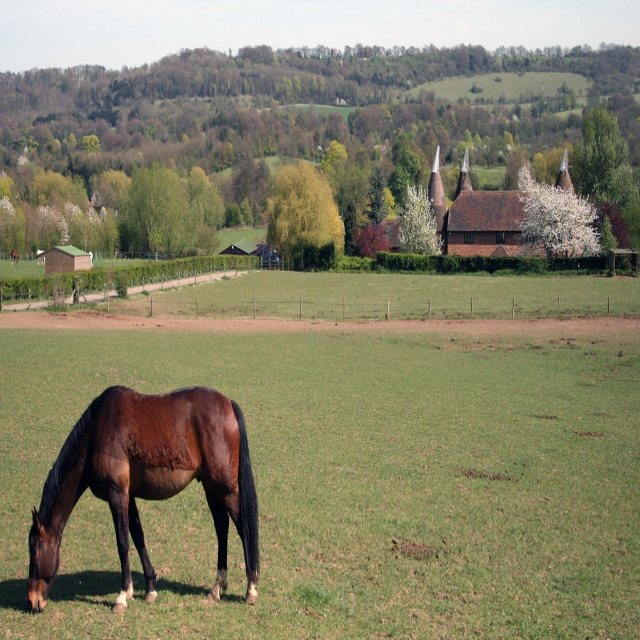Horse: (26, 385, 260, 611)
